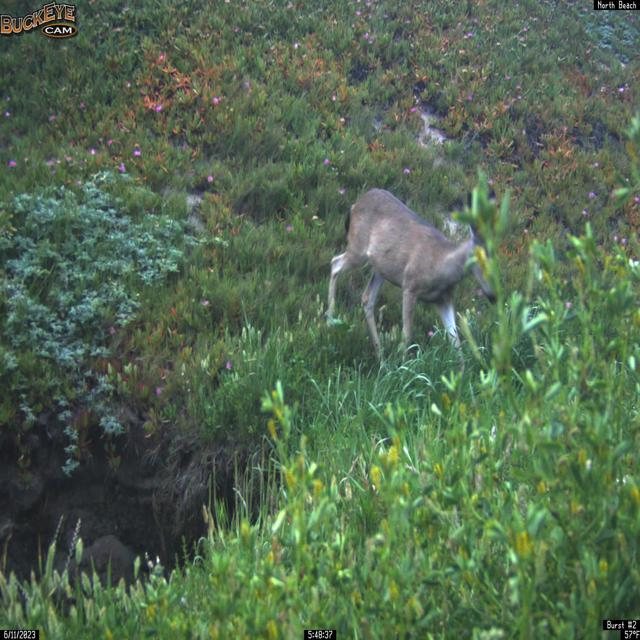deer: (325, 187, 500, 375)
